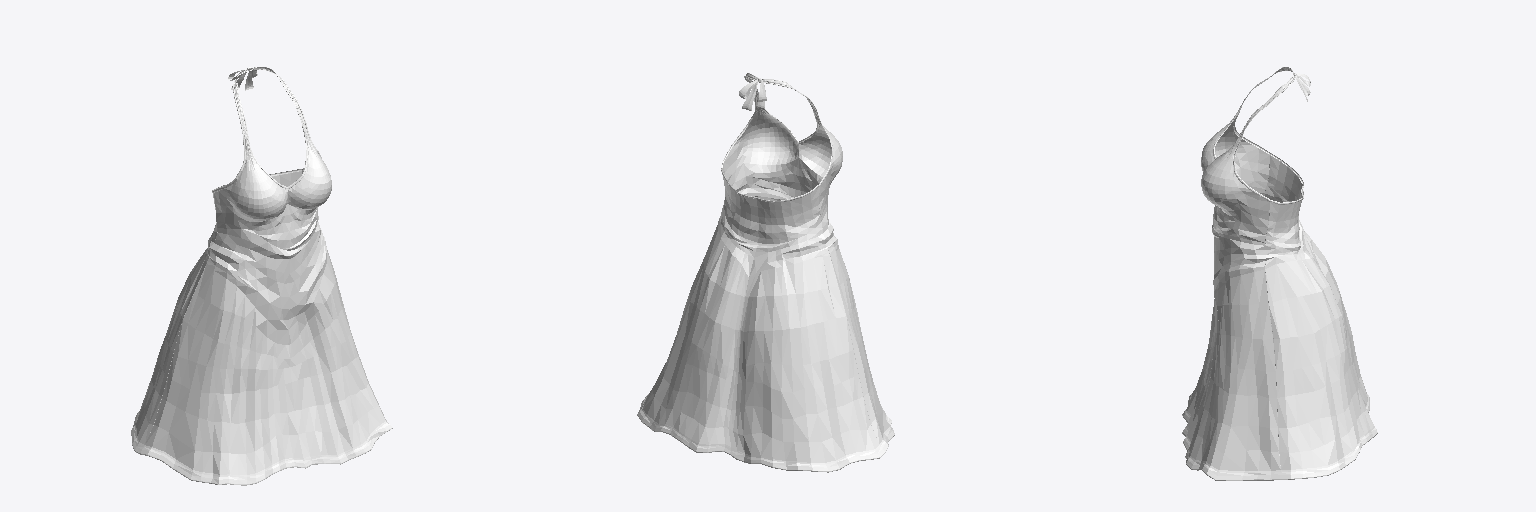
File: halter.obj
3 views of the same model, side by side, from view 1: azimuth 30°, elevation 25°; view 2: azimuth 150°, elevation 25°; view 3: azimuth 270°, elevation 25° (orthographic).
Visible parts, largest first — view 1: o_all_fuku4_0Controller; view 2: o_all_fuku4_0Controller, o_all_ribon_0Controller; view 3: o_all_fuku4_0Controller.
Part boxes in pixels (x1,y1,x2,y2): o_all_fuku4_0Controller: (131,66,392,485); o_all_fuku4_0Controller: (637,73,894,472); o_all_ribon_0Controller: (739,78,766,110); o_all_fuku4_0Controller: (1182,67,1377,480).
Size of the model in its own units: 6.79 by 10.15 by 4.92.